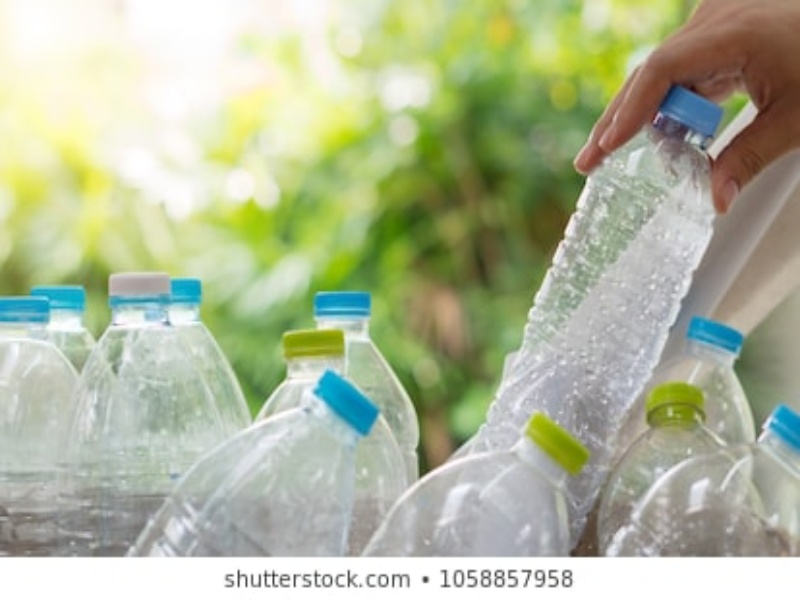bottle-cap: (522, 407, 590, 478), (313, 371, 378, 437), (658, 86, 729, 138), (642, 384, 712, 421), (683, 316, 755, 350), (279, 331, 348, 359), (109, 272, 173, 298), (763, 406, 800, 448), (1, 297, 57, 321), (313, 292, 369, 316), (32, 283, 88, 307), (168, 276, 199, 301)
plastic-bottle: (489, 83, 725, 455), (125, 368, 380, 559), (68, 273, 221, 567), (371, 405, 592, 560), (605, 400, 799, 561), (266, 316, 408, 530), (599, 383, 761, 564), (1, 296, 93, 556), (312, 291, 426, 499), (635, 312, 752, 449), (30, 282, 123, 440)
